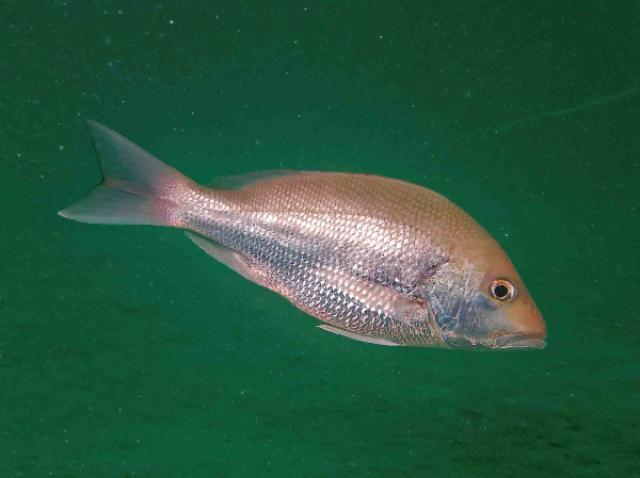Mulut: (470, 313, 572, 368)
Sirip Anal: (173, 218, 273, 296)
Sirip Dada: (298, 253, 440, 333)
Sirip Ekor: (46, 101, 200, 243)
Sirip Perut: (306, 308, 406, 368)
Sirip Punggung: (204, 160, 340, 207)
